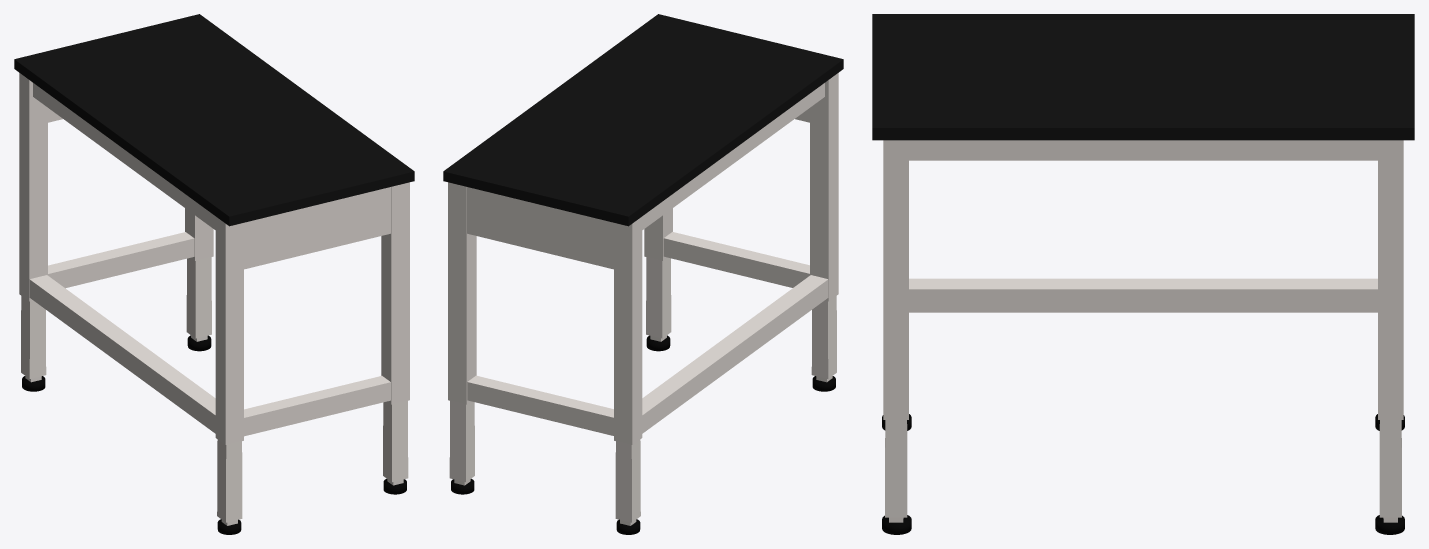
Rendered from table.fbx.
The picture shows the model from 3 angles, left to right: view 1: azimuth 30°, elevation 25°; view 2: azimuth 150°, elevation 25°; view 3: azimuth 270°, elevation 25°; orthographic projection. The views are drawn at different scales.
Visible parts, largest first — view 1: Table; view 2: Table; view 3: Table.
Part boxes in pixels (left/top/right/bottom): Table: left=14, top=14, right=414, bottom=534; Table: left=443, top=14, right=843, bottom=534; Table: left=872, top=14, right=1414, bottom=534.
Size of the model in its own units: 1.57 by 1.3 by 0.785.
